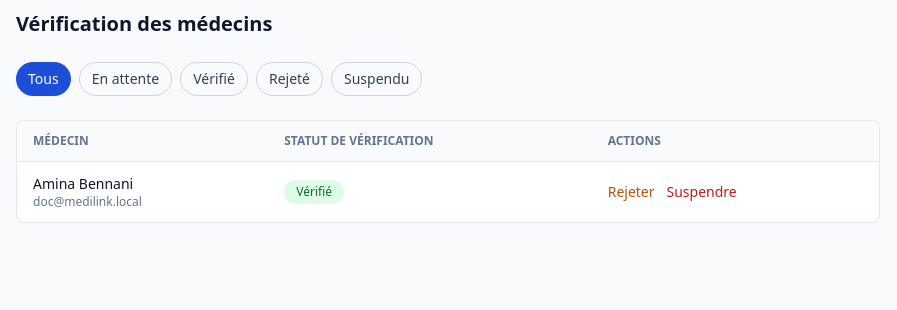
Test: AdminDoctorsPage › demande confirmation avant de suspendre un médecin, et appelle l'API si confirmé
Check: the text "Amina Bennani" is shown, box [33,174,133,193]
Step 1. Click the button "Suspendre" → x=702, y=192, box [666,182,737,202]
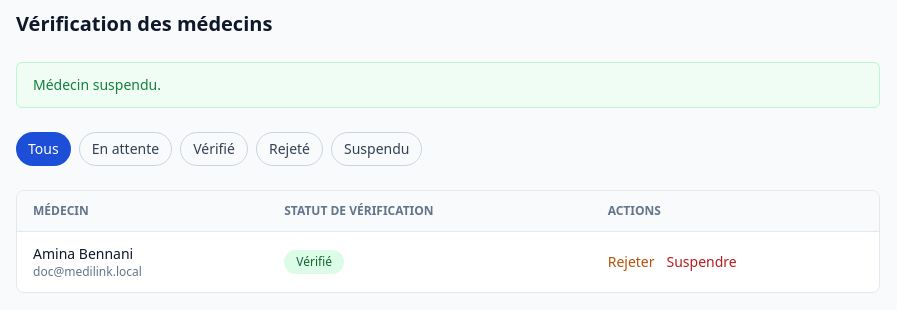
Check: the text "Médecin suspendu." is shown, box [16,62,880,108]
